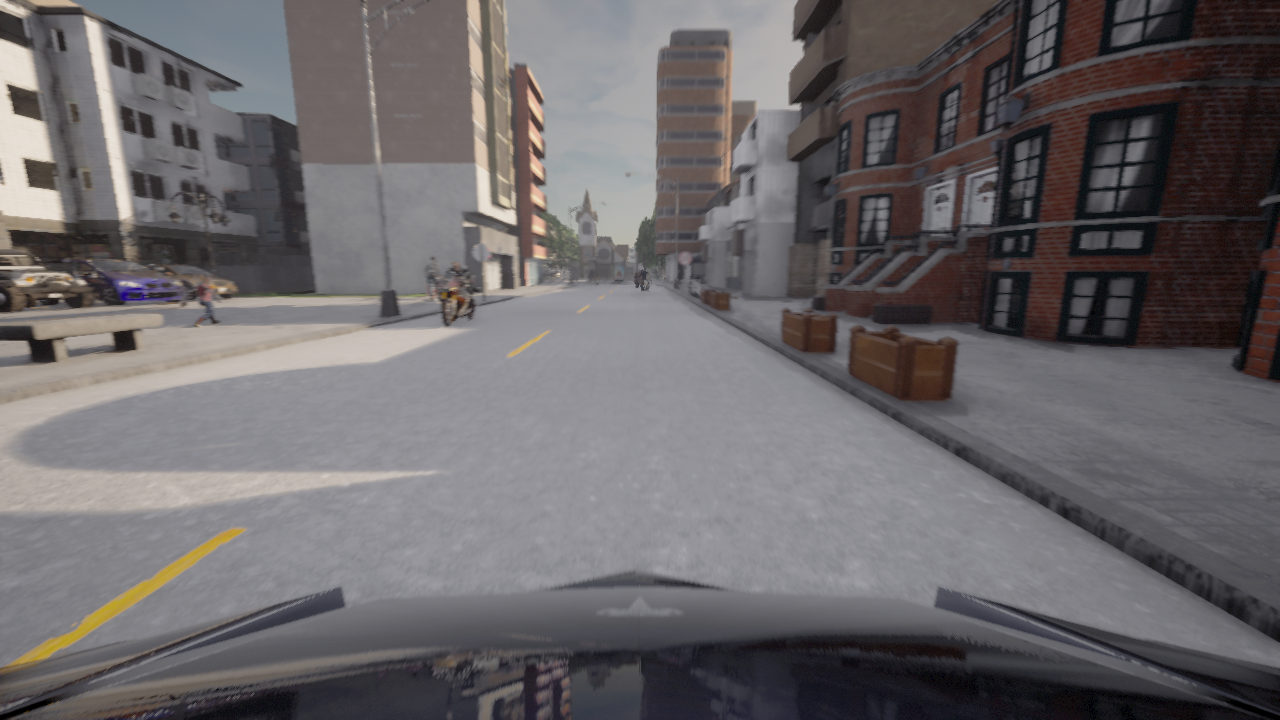cyclist: (0, 569, 1279, 719), (38, 259, 186, 305), (144, 265, 237, 300), (430, 272, 480, 326), (641, 275, 648, 292), (594, 276, 600, 285), (635, 275, 639, 287), (589, 278, 590, 286)
pedestrian: (181, 275, 220, 326), (424, 256, 440, 299)
